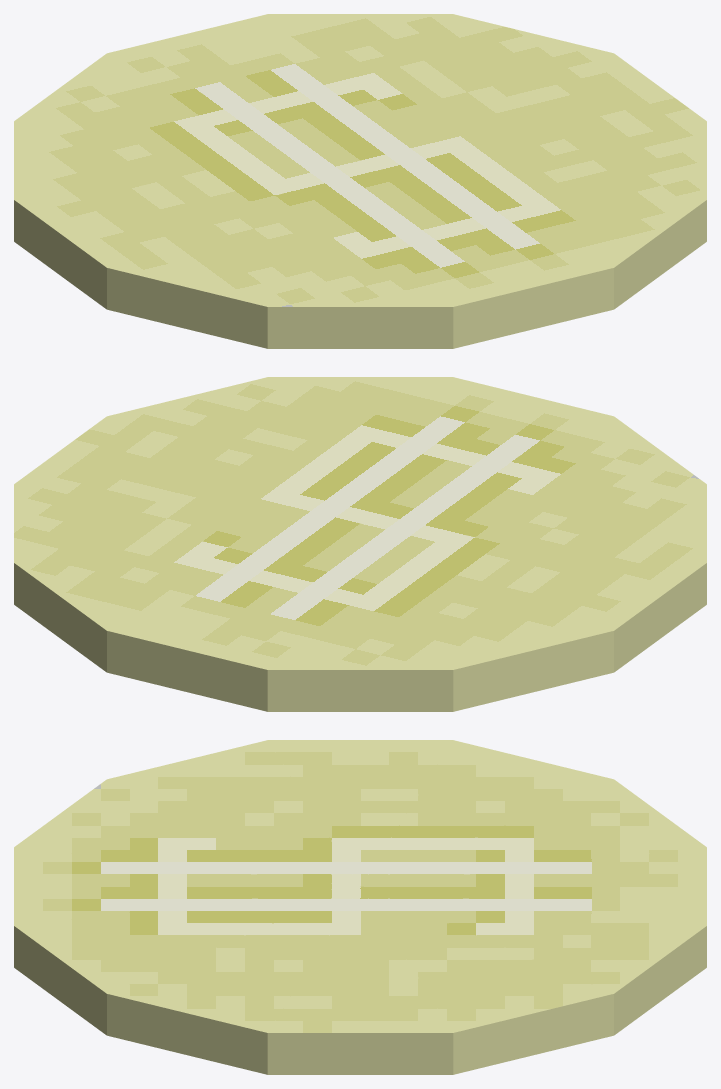
The model's file is coin.fbx.
3 views of the same model, one above another, from view 1: azimuth 30°, elevation 25°; view 2: azimuth 150°, elevation 25°; view 3: azimuth 270°, elevation 25° (orthographic).
Parts seen in each view (by area): view 1: cylinder; view 2: cylinder; view 3: cylinder.
Part boxes in pixels (x1,y1,x2,y2): cylinder: (14,14,706,348); cylinder: (14,377,706,711); cylinder: (14,740,706,1074).
Size of the model in its own units: 18.75 by 1.25 by 18.75.
1 material, 1 textured.
